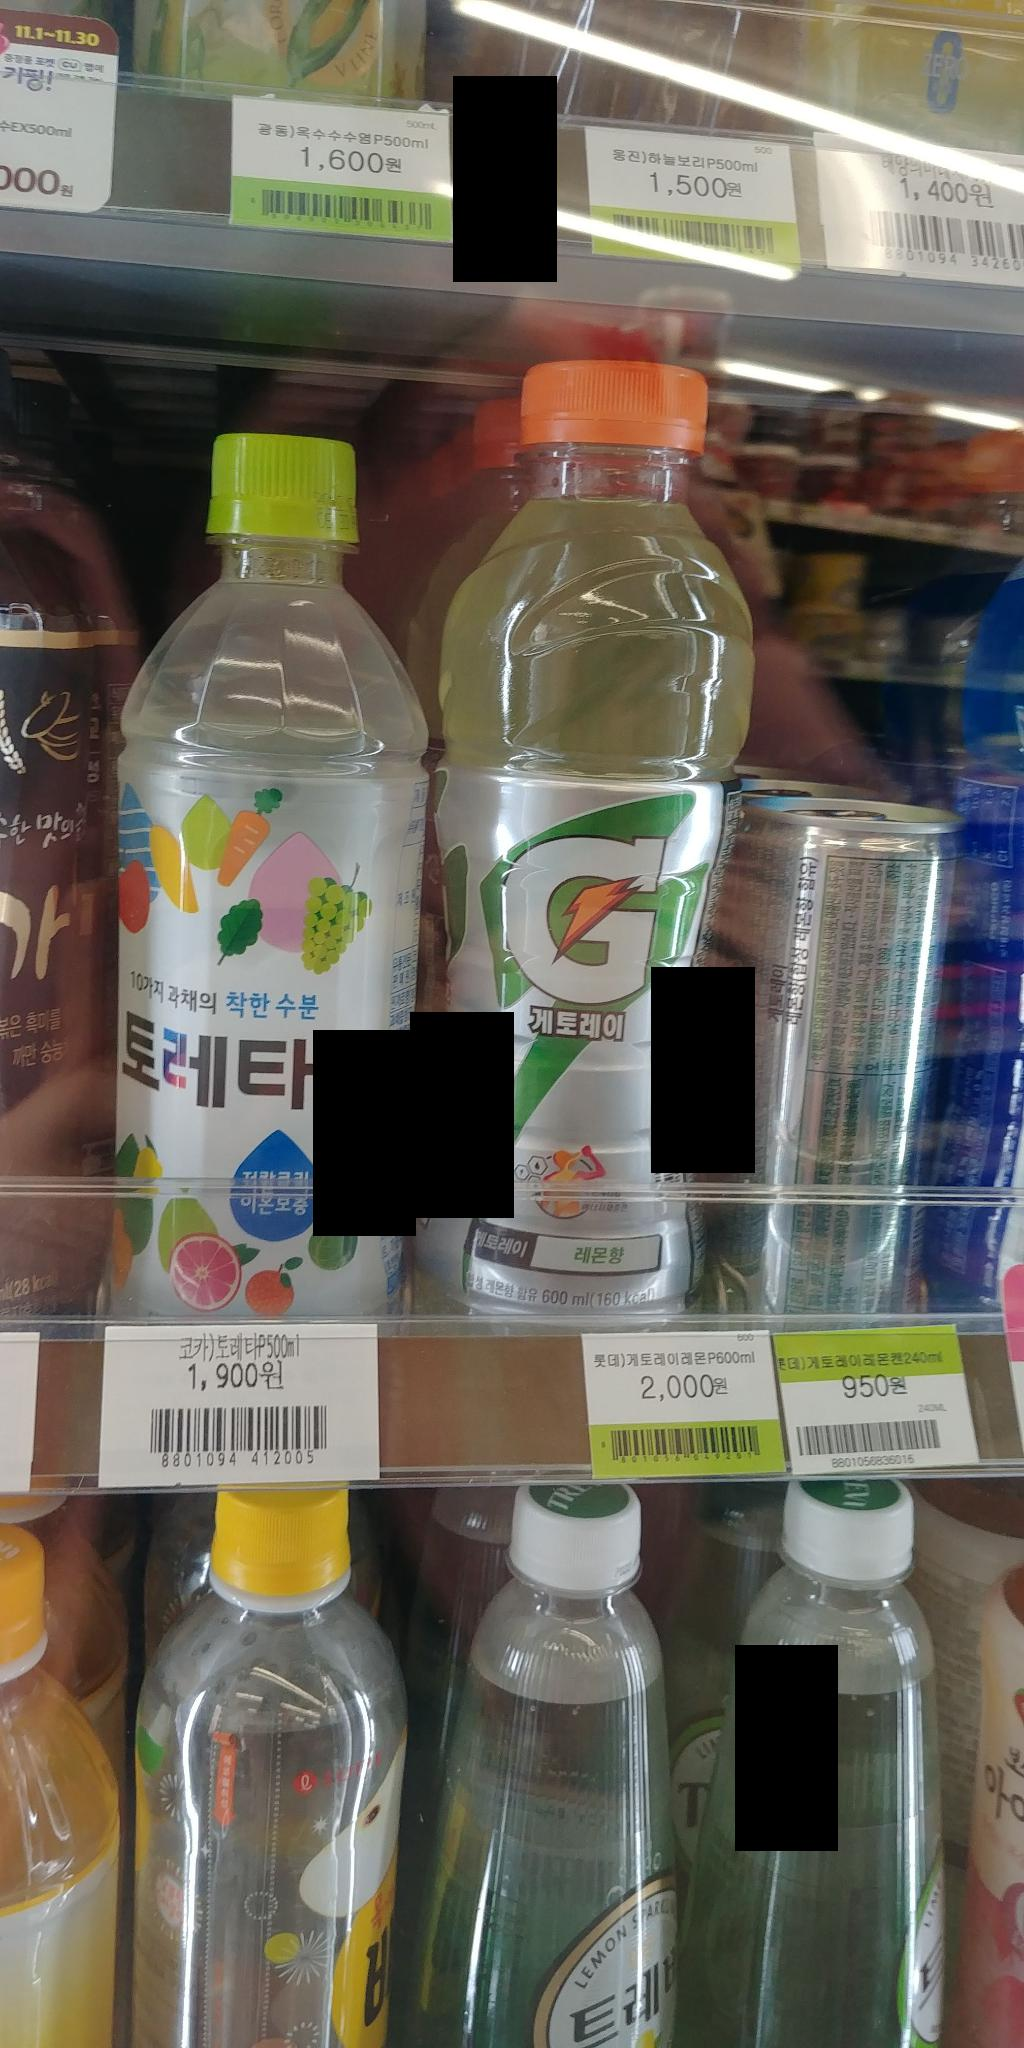gatorade_lemon: (410, 332, 752, 1328)
toreta: (85, 397, 426, 1334)
